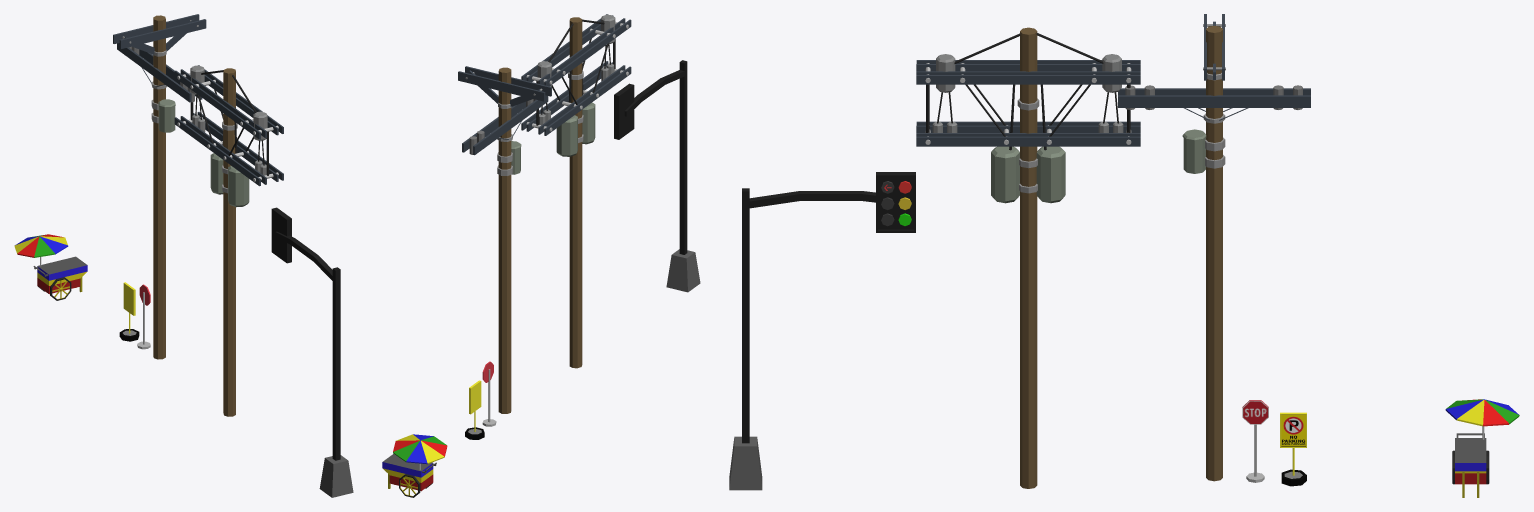
The model's file is Sorbetero_Environment.glb.
3 renders of one model, left to right at view 1: azimuth 30°, elevation 25°; view 2: azimuth 150°, elevation 25°; view 3: azimuth 270°, elevation 25°, orthographic. The views are drawn at different scales.
Visible parts, largest first — view 1: ElectricPole_2, ElectricPole_1, Stoplight, Vendor_1, NoParking; view 2: ElectricPole_2, ElectricPole_1, Stoplight, Vendor_1, NoParking, StopSign; view 3: ElectricPole_2, ElectricPole_1, Stoplight, Vendor_1, NoParking, StopSign.
Part boxes in pixels (bbox=[...]): ElectricPole_2: bbox=[174, 65, 283, 416]; ElectricPole_1: bbox=[113, 14, 206, 359]; Stoplight: bbox=[271, 207, 353, 497]; Vendor_1: bbox=[14, 234, 87, 300]; NoParking: bbox=[119, 282, 139, 341]; ElectricPole_2: bbox=[521, 14, 631, 368]; ElectricPole_1: bbox=[458, 66, 551, 413]; Stoplight: bbox=[614, 60, 700, 292]; Vendor_1: bbox=[382, 434, 447, 497]; NoParking: bbox=[465, 380, 484, 439]; StopSign: bbox=[482, 361, 496, 426]; ElectricPole_2: bbox=[916, 27, 1140, 488]; ElectricPole_1: bbox=[1118, 14, 1310, 481]; Stoplight: bbox=[729, 172, 915, 490]; Vendor_1: bbox=[1445, 399, 1519, 497]; NoParking: bbox=[1280, 412, 1306, 486]; StopSign: bbox=[1242, 400, 1268, 482].
Bounding box in the file's own units: 4.52 × 17.53 × 27.4.
64 materials, 2 textured.
